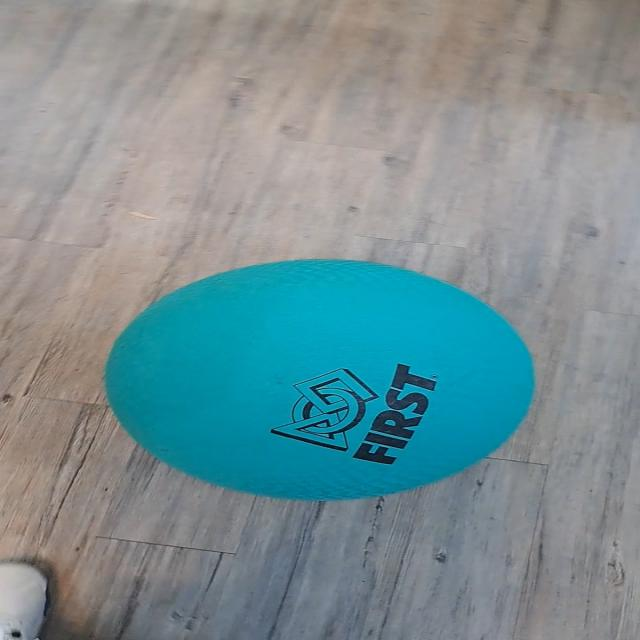ALGAE: (100, 257, 537, 501)
